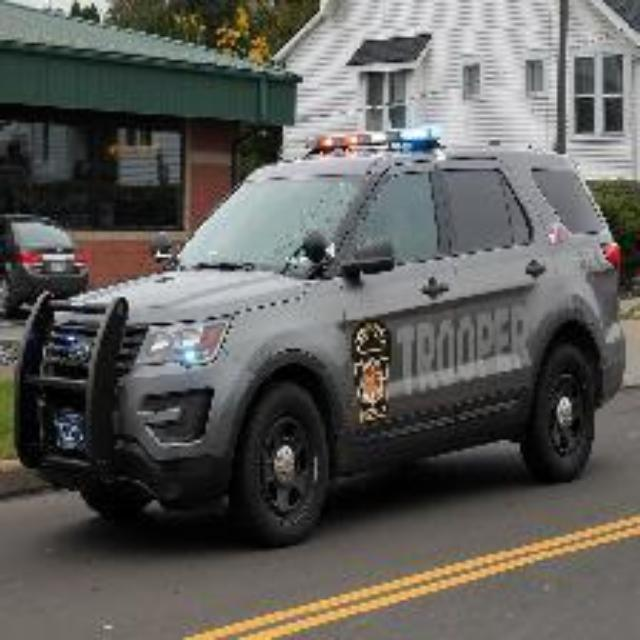emergency: (30, 121, 636, 536)
